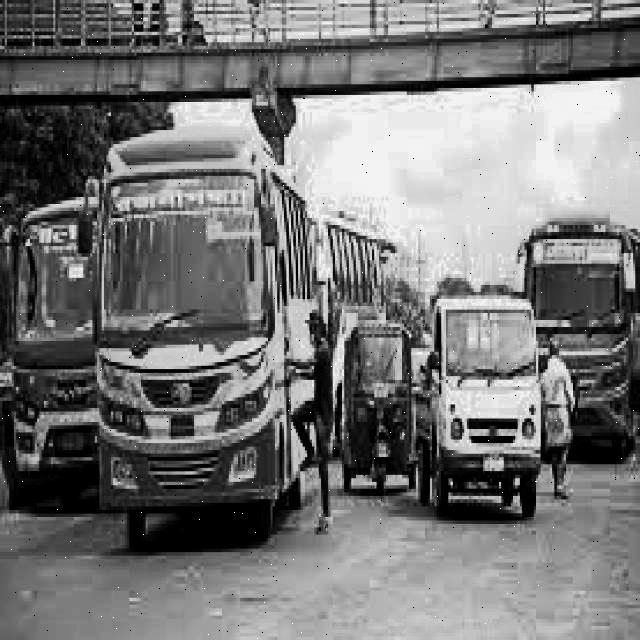Bus: (92, 122, 324, 509), (524, 196, 640, 454), (308, 208, 395, 429)
